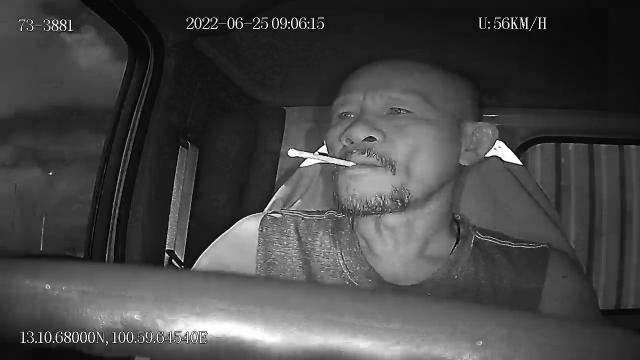SafeDriving: (377, 95, 421, 123), (328, 102, 362, 126)
Smoking: (286, 145, 358, 167)
